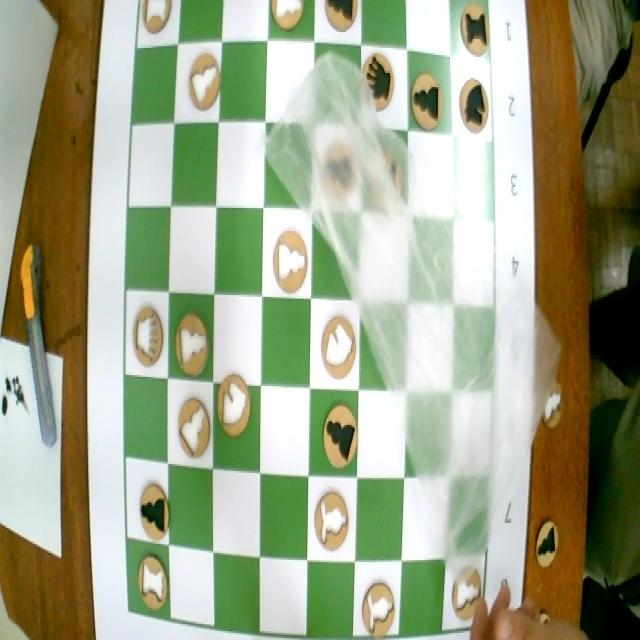chess-pieces: (264, 218, 312, 298), (308, 481, 354, 562), (314, 299, 356, 385), (312, 394, 355, 476), (166, 392, 212, 467), (126, 544, 170, 620), (129, 462, 172, 538), (169, 301, 213, 375), (356, 564, 398, 640), (361, 44, 401, 119), (215, 370, 255, 444), (185, 43, 220, 119), (130, 297, 166, 370), (446, 560, 485, 626), (410, 72, 446, 132), (461, 0, 493, 55), (457, 76, 487, 132), (140, 0, 176, 44), (268, 0, 306, 39), (324, 0, 362, 39)
